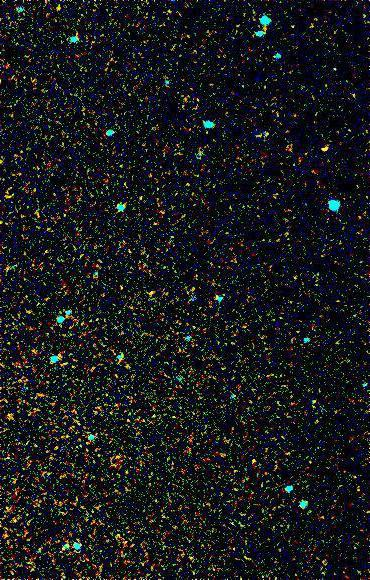star: (311, 135, 341, 165)
